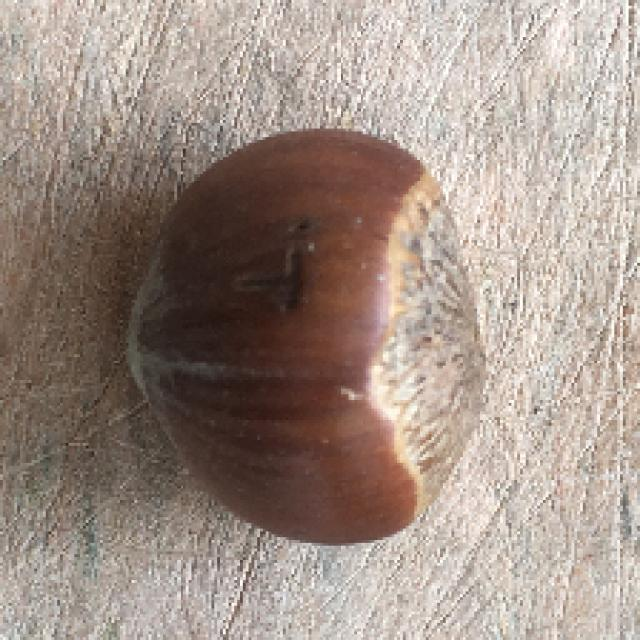qualityHazelnut: (119, 126, 488, 545)
